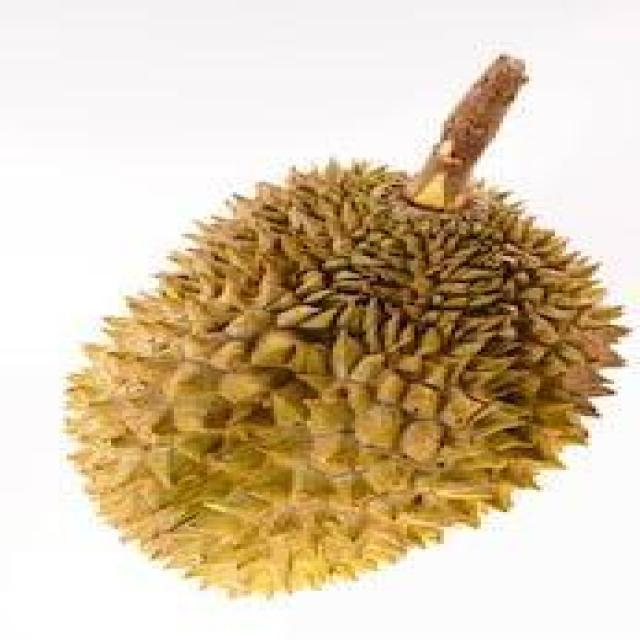mature: (70, 164, 620, 592)
